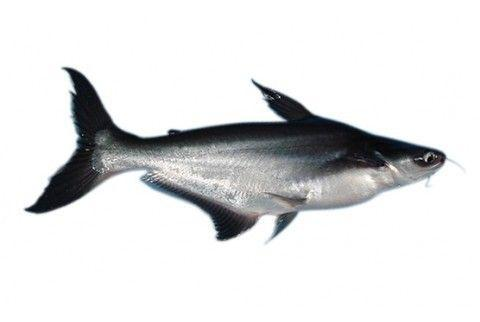Pangasius: (25, 64, 451, 247)
